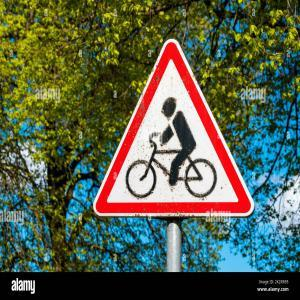STOP: (92, 39, 256, 219)
